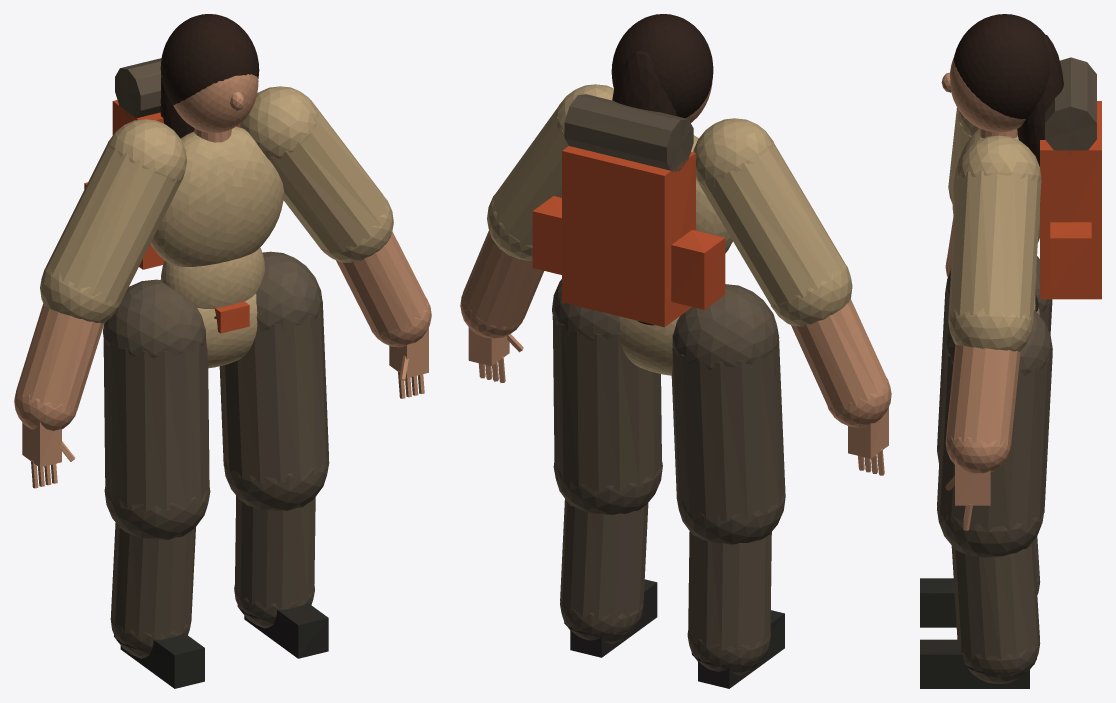
Rendered from athletic_female_scout.glb.
3 renders of one model, left to right at view 1: azimuth 30°, elevation 25°; view 2: azimuth 150°, elevation 25°; view 3: azimuth 270°, elevation 25°, orthographic. The views are drawn at different scales.
Visible parts, largest first — view 1: Trousers, Shirt, Body_skin, Hair, Boots, Hands, Head, Backpack_secondary, Body_primary, Backpack_accent, Belt_accent; view 2: Trousers, Shirt, Backpack_accent, Body_skin, Hair, Backpack_secondary, Hands, Boots, Body_primary; view 3: Trousers, Shirt, Backpack_accent, Hair, Body_skin, Boots, Backpack_secondary, Head, Hands.
Part boxes in pixels (left/top/right/bottom): Trousers: left=103, top=251, right=329, bottom=658; Shirt: left=40, top=86, right=393, bottom=323; Body_skin: left=14, top=128, right=431, bottom=430; Hair: left=160, top=14, right=259, bottom=138; Boots: left=114, top=602, right=328, bottom=688; Hands: left=22, top=327, right=428, bottom=488; Head: left=173, top=74, right=258, bottom=132; Backpack_secondary: left=115, top=58, right=161, bottom=118; Body_primary: left=197, top=294, right=257, bottom=368; Backpack_accent: left=84, top=100, right=238, bottom=269; Belt_accent: left=214, top=301, right=249, bottom=333; Trousers: left=552, top=279, right=785, bottom=675; Shirt: left=487, top=84, right=852, bottom=326; Backpack_accent: left=532, top=146, right=725, bottom=327; Body_skin: left=460, top=230, right=891, bottom=427; Hair: left=611, top=14, right=713, bottom=118; Backpack_secondary: left=564, top=94, right=693, bottom=171; Hands: left=468, top=327, right=888, bottom=475; Boots: left=564, top=579, right=784, bottom=688; Body_primary: left=619, top=316, right=679, bottom=375; Trousers: left=937, top=256, right=1052, bottom=683; Shirt: left=948, top=107, right=1041, bottom=351; Backpack_accent: left=1040, top=101, right=1101, bottom=299; Hair: left=954, top=14, right=1063, bottom=166; Body_skin: left=945, top=128, right=1020, bottom=473; Boots: left=920, top=578, right=1036, bottom=688; Backpack_secondary: left=1045, top=57, right=1096, bottom=155; Head: left=941, top=57, right=1025, bottom=132; Hands: left=945, top=459, right=990, bottom=530.
Bounding box in the file's own units: 1.18 × 1.72 × 0.4479.
